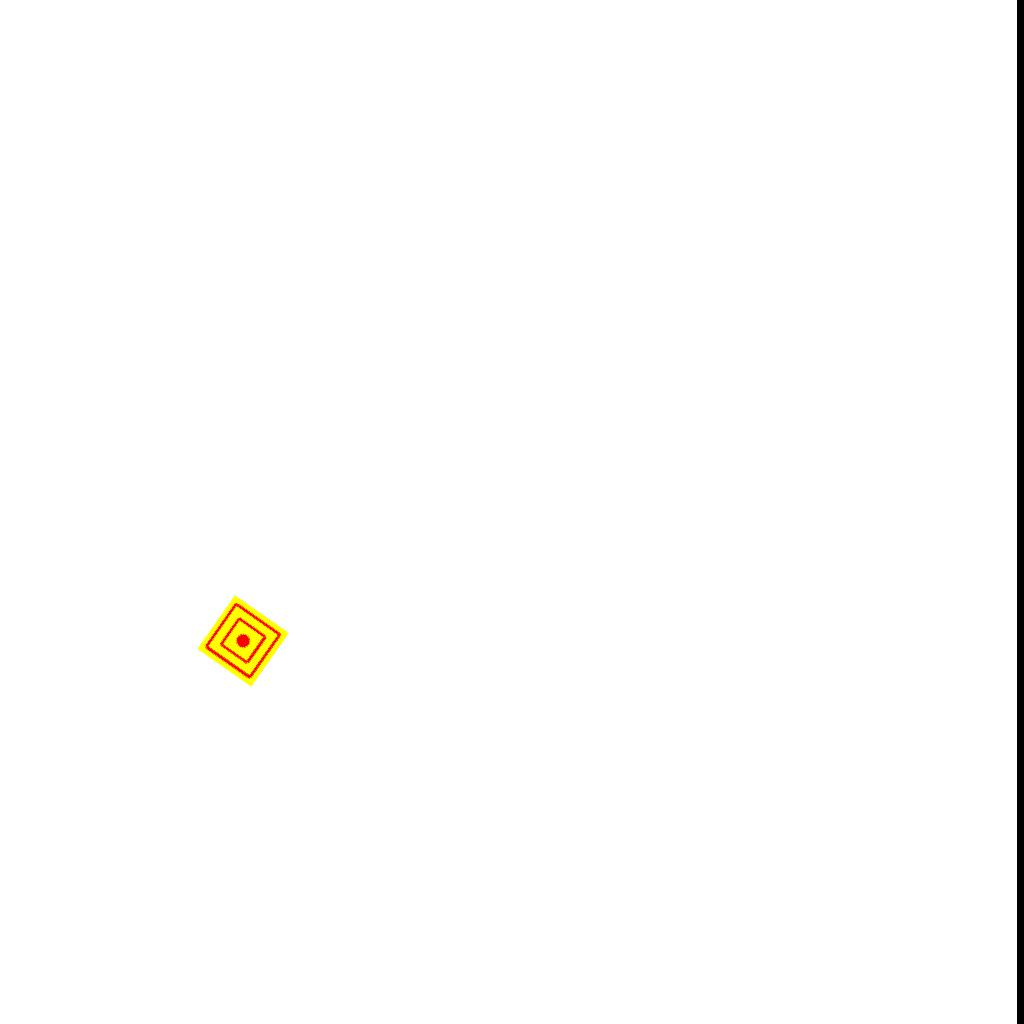NAM-Nichtautomatischer_Melder: (197, 595, 289, 687)
